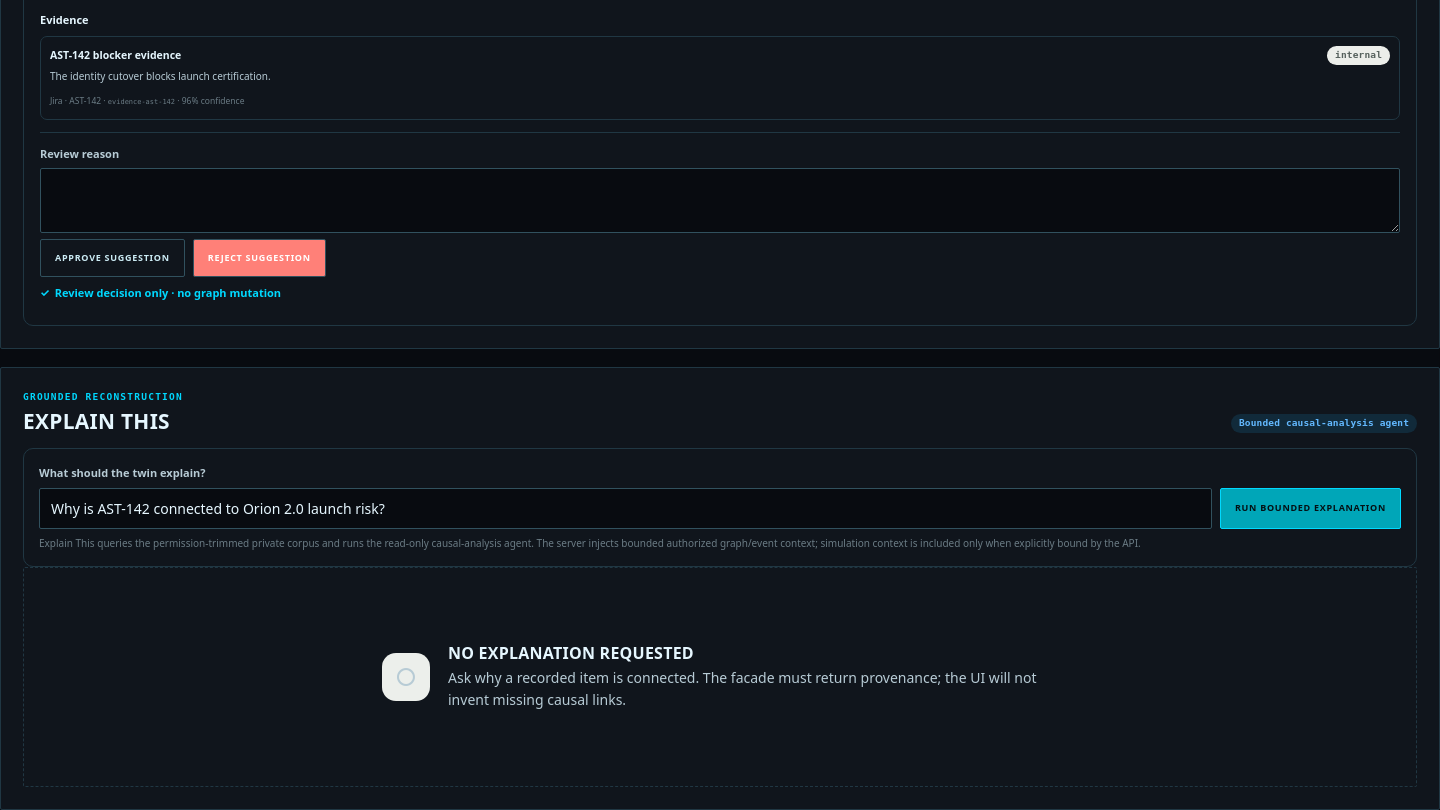
it: AIControlCenter › preserves an honest empty-corpus result without inventing causal links or affected nodes
(page scrolled)
Click the button "Run bounded explanation".
click(1310, 509)  # box [1220,488,1401,529]
(page scrolled)
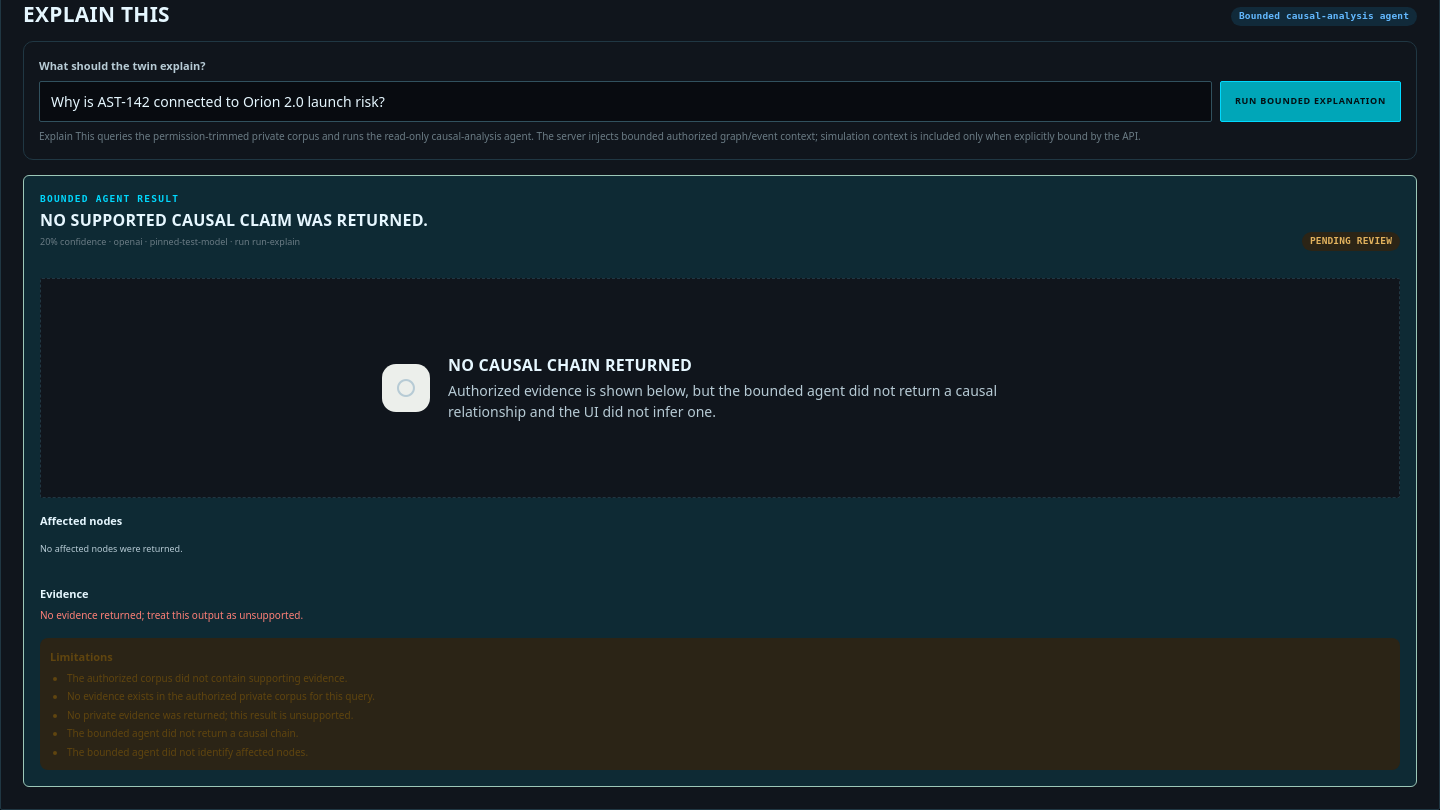
Expected: the heading "No causal chain returned" is shown, [448,354,692,376]
Expected: the text "No evidence returned; treat this output as unsupported." is shown, [40,608,303,622]
Expected: the text "No affected nodes were returned." is shown, [40,542,183,555]
